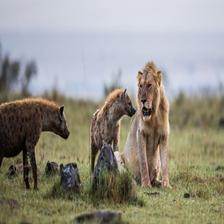hyena: (0, 79, 82, 204), (88, 71, 139, 194)
